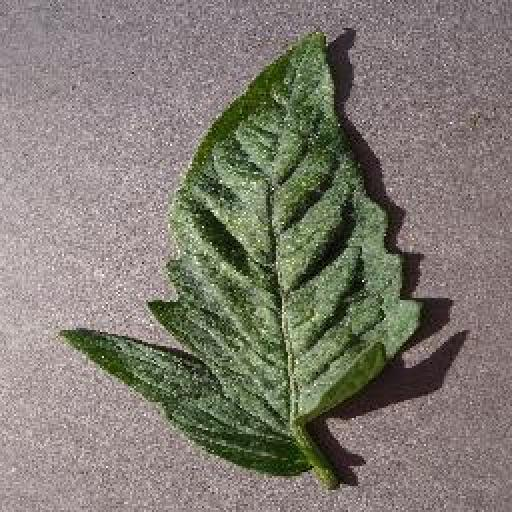disease_tomato: (58, 24, 418, 476)
